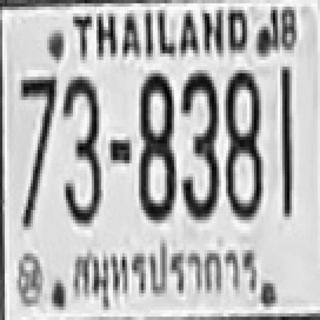N03: (60, 73, 100, 223), (179, 70, 217, 217)
N07: (19, 73, 57, 220), (19, 75, 57, 195), (19, 73, 57, 173)
N08: (223, 67, 261, 217), (136, 70, 174, 217)
P57: (65, 238, 265, 311)
